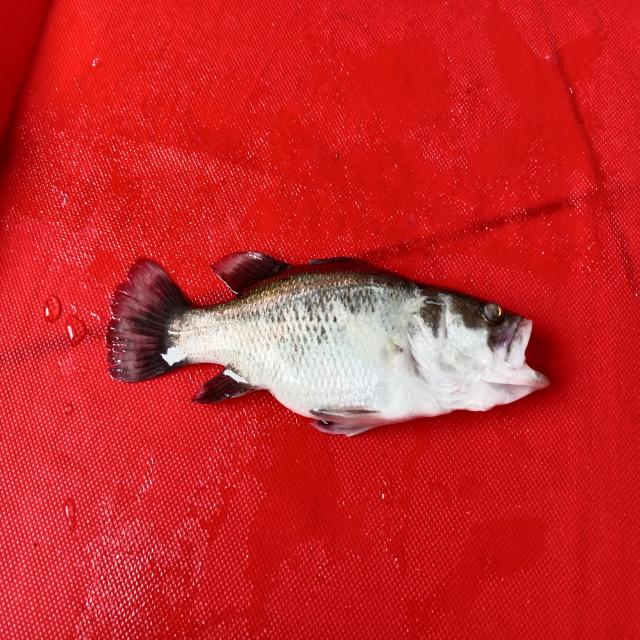ikan: (104, 210, 568, 452)
